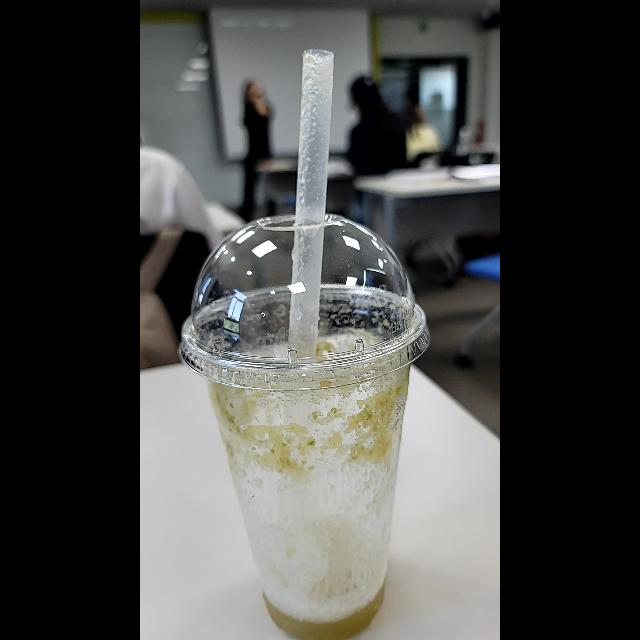plastic_cup: (179, 198, 427, 640)
plastic_cup_lid: (180, 212, 434, 394)
straw: (289, 46, 335, 364)
